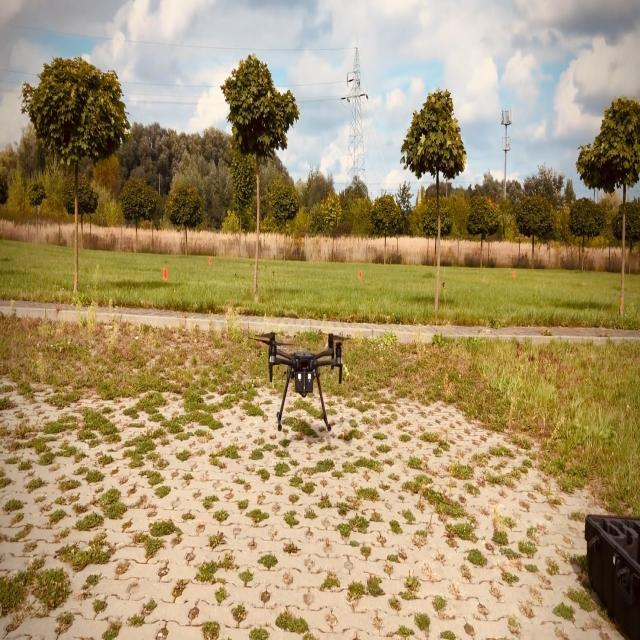drone: (252, 330, 344, 433)
